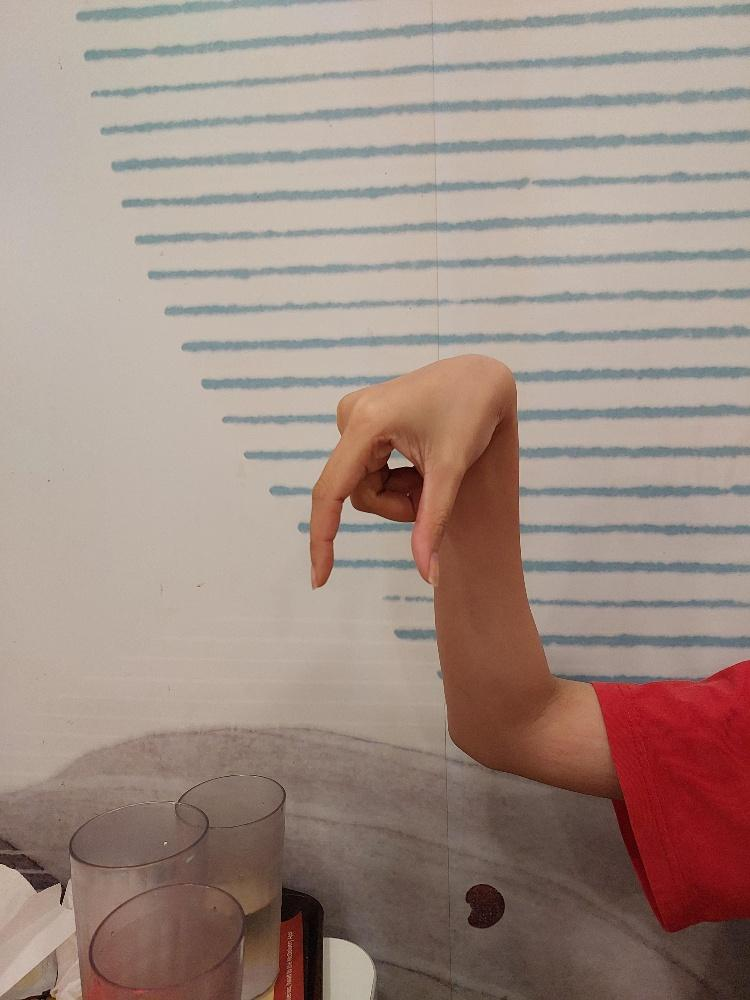q: (305, 350, 501, 591)
